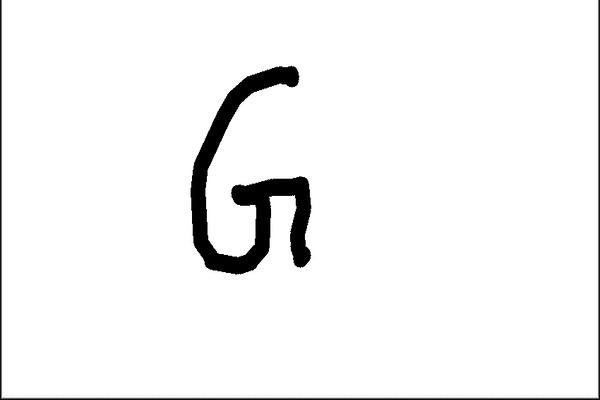G: (185, 61, 321, 275)
